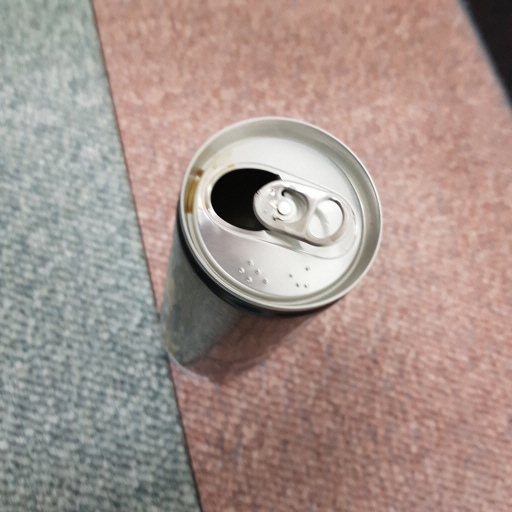Metal_0: (157, 115, 384, 384)
